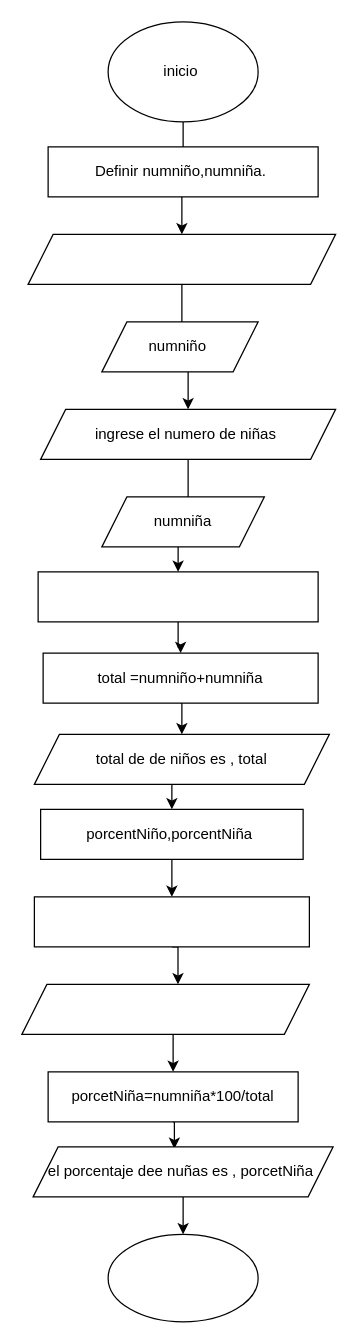
Some shapes in this 358 by 1344 pixel diagram are drawn without their labels. The box of each missing label's shape, as (x1, y1, x2, y2) in pixels:
el procentaje de niños es ,porcetNiño: (21, 983, 309, 1034)
fin: (107, 1233, 258, 1322)
ingrese el numero de niños: (27, 233, 336, 284)
porcentNiño=numniño*100/total: (33, 896, 309, 947)
total: (37, 571, 318, 622)
